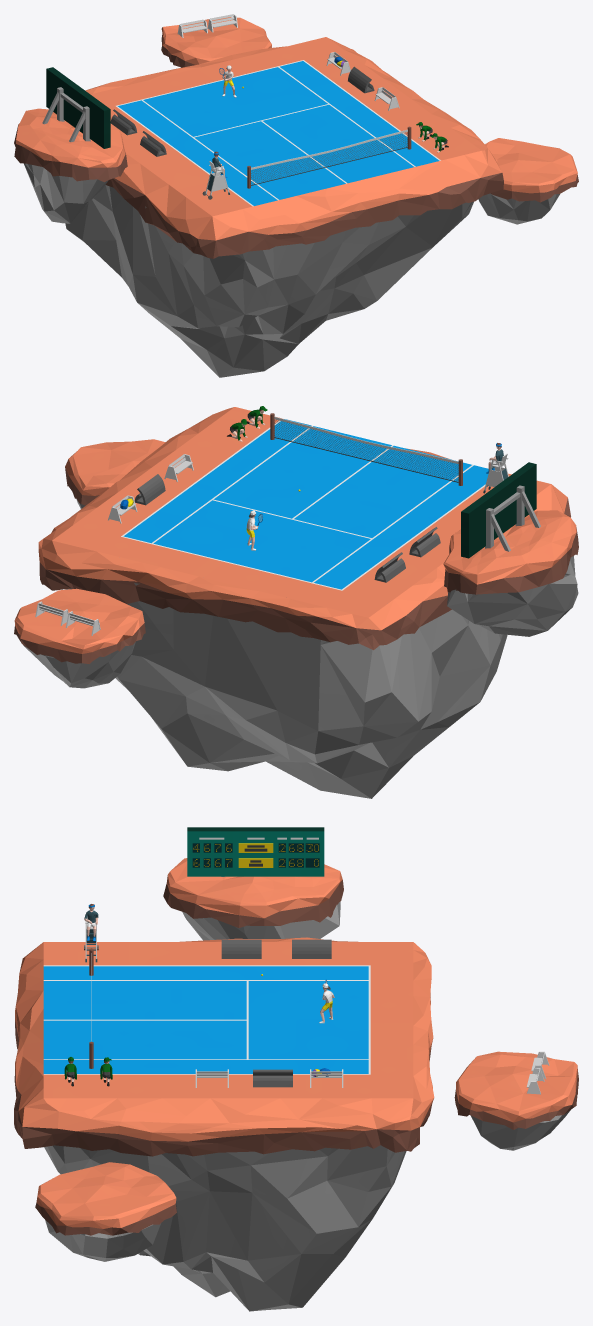
File: land_88.fbx
3 views of the same model, one above another, from view 1: azimuth 30°, elevation 25°; view 2: azimuth 150°, elevation 25°; view 3: azimuth 270°, elevation 25° (orthographic). The views are drawn at different scales.
Visible parts, largest first — view 1: polySurface2457, land_88.024, polySurface2449, polySurface2479, polySurface2449.001, polySurface2478, pCube173, land_88.021, pCube180, land_88.030; view 2: polySurface2457, land_88.024, polySurface2449.001, polySurface2479, polySurface2478, polySurface2449, pCube173, land_88.021, pCube180, land_88.019, land_88.028, land_88.033; view 3: polySurface2457, land_88.024, polySurface2449, polySurface2449.001, polySurface2479, pCube173, polySurface2478, land_88.028, land_88.033, land_88.019.
Part boxes in pixels (<box>): polySurface2457: <box>65,37,503,377</box>; land_88.024: <box>90,37,481,216</box>; polySurface2449: <box>478,138,578,224</box>; polySurface2479: <box>14,108,127,182</box>; polySurface2449.001: <box>161,17,271,67</box>; polySurface2478: <box>23,163,108,223</box>; pCube173: <box>46,67,110,148</box>; land_88.021: <box>251,129,407,185</box>; pCube180: <box>42,87,90,142</box>; land_88.030: <box>202,161,229,199</box>; polySurface2457: <box>38,407,570,798</box>; land_88.024: <box>52,407,550,617</box>; polySurface2449.001: <box>14,588,145,688</box>; polySurface2479: <box>443,510,578,594</box>; polySurface2478: <box>447,556,578,636</box>; polySurface2449: <box>65,439,165,508</box>; pCube173: <box>461,462,536,558</box>; land_88.021: <box>274,416,458,482</box>; pCube180: <box>485,485,540,551</box>; land_88.019: <box>134,474,165,505</box>; land_88.028: <box>409,527,440,557</box>; land_88.033: <box>374,552,405,582</box>; polySurface2457: <box>14,937,434,1311</box>; land_88.024: <box>43,942,413,1098</box>; polySurface2449: <box>35,1162,176,1261</box>; polySurface2449.001: <box>454,1051,578,1150</box>; polySurface2479: <box>163,858,343,927</box>; pCube173: <box>187,827,324,876</box>; polySurface2478: <box>182,902,340,940</box>; land_88.028: <box>221,939,261,958</box>; land_88.033: <box>292,939,331,958</box>; land_88.019: <box>253,1069,292,1087</box>.
Bounding box in the file's own units: 26.87 × 16.56 × 22.91.
